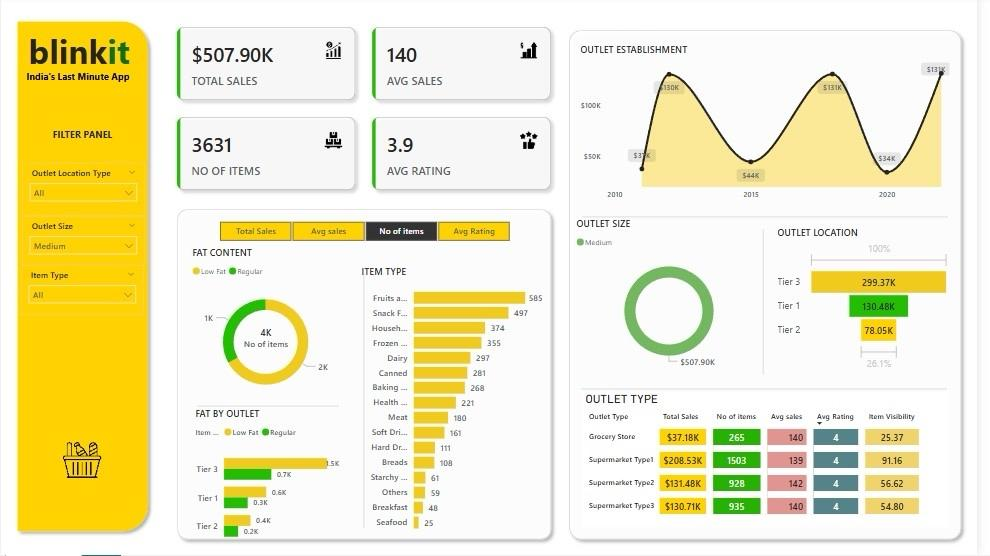

What the dashboard file says about the page in this screenshot:
{"tool":"powerbi","page":{"name":"Page 1","canvas":[1400,800],"ordinal":0},"visuals":[{"type":"shape","box":[14.7,25.7,205.8,749.6],"z":0},{"type":"textbox","box":[31.2,101,170.9,34.9],"z":1000},{"type":"textbox","box":[34.9,38.6,165.4,80.8],"z":2000},{"type":"cardVisual","fields":{"Data":["BlinkIT Grocery Data.Total Sales","BlinkIT Grocery Data.Avg sales","BlinkIT Grocery Data.No of items","BlinkIT Grocery Data.Avg Rating"]},"box":[234.6,25.9,570.7,269.7],"z":3000},{"type":"shape","box":[243.8,295.5,554.1,491.3],"z":4000},{"type":"slicer","fields":{"Values":["Metrics.Metrics"]},"box":[288.1,315.8,465.4,40.6],"z":5000},{"type":"donutChart","title":"FAT CONTENT","fields":{"Y":["BlinkIT Grocery Data.Total Sales"],"Category":["BlinkIT Grocery Data.Item Fat Content"]},"box":[269.7,356.5,219.8,230.9],"z":6000},{"type":"cardVisual","fields":{"Data":["BlinkIT Grocery Data.Total Sales"]},"box":[314,435.9,133,105.3],"z":7000},{"type":"clusteredBarChart","title":"FAT BY OUTLET","fields":{"Y":["BlinkIT Grocery Data.Total Sales"],"Series":["BlinkIT Grocery Data.Item Fat Content"],"Category":["BlinkIT Grocery Data.Outlet Location Type"]},"box":[273.4,587.3,216.1,208.7],"z":8000},{"type":"shape","box":[280.7,567,203.2,40.6],"z":9000},{"type":"shape","box":[419.3,395.3,203.2,365.7],"z":10000},{"type":"barChart","title":"ITEM TYPE","fields":{"Y":["BlinkIT Grocery Data.Total Sales"],"Category":["BlinkIT Grocery Data.Item Type"]},"box":[511.6,384.2,269.7,391.6],"z":11000},{"type":"shape","box":[805.3,38.8,579.9,748],"z":12000},{"type":"lineChart","title":"OUTLET ESTABLISHMENT","fields":{"Category":["BlinkIT Grocery Data.Outlet Establishment Year"],"Y":["BlinkIT Grocery Data.Total Sales"]},"box":[825.6,66.5,539.3,234.6],"z":13000},{"type":"shape","box":[833,280.7,524.5,68.3],"z":14000},{"type":"donutChart","title":"OUTLET SIZE","fields":{"Y":["BlinkIT Grocery Data.Total Sales"],"Category":["BlinkIT Grocery Data.Outlet Size"]},"box":[820.1,315.8,275.2,225.3],"z":15000},{"type":"shape","box":[1078.6,332.5,29.6,208.7],"z":16000},{"type":"funnel","title":"OUTLET LOCATION","fields":{"Category":["BlinkIT Grocery Data.Outlet Location Type"],"Y":["Sum(BlinkIT Grocery Data.Sales)"]},"box":[1108.2,328.8,256.7,212.4],"z":17000},{"type":"shape","box":[831.1,546.7,524.5,31.4],"z":18000},{"type":"pivotTable","title":"OUTLET TYPE","fields":{"Rows":["BlinkIT Grocery Data.Outlet Type"],"Values":["BlinkIT Grocery Data.Total Sales","BlinkIT Grocery Data.No of items","BlinkIT Grocery Data.Avg sales","BlinkIT Grocery Data.Avg Rating","Sum(BlinkIT Grocery Data.Item Visibility)"]},"box":[833,567,524.5,193.9],"z":19000},{"type":"slicer","fields":{"Values":["BlinkIT Grocery Data.Outlet Size"]},"box":[29.9,313.4,176.4,70.9],"z":20000},{"type":"slicer","fields":{"Values":["BlinkIT Grocery Data.Item Type"]},"box":[28.3,384.3,176.4,72.4],"z":21000},{"type":"slicer","fields":{"Values":["BlinkIT Grocery Data.Outlet Location Type"]},"box":[29.9,237.8,176.4,75.6],"z":22000},{"type":"textbox","box":[60.2,183.5,113.3,34.4],"z":23000},{"type":"image","box":[70.9,623.6,92.9,80.3],"z":24000}]}

Visuals, with their boxes in screenshot pixels (x1, y1, x2, y2), scaled from the page's 1400x800 canvas onto the 990x556 screenshot:
shape: select_region(10, 18, 156, 539)
textbox: select_region(22, 70, 143, 94)
textbox: select_region(25, 27, 142, 83)
cardVisual - BlinkIT Grocery Data.Total Sales x BlinkIT Grocery Data.Avg sales: select_region(166, 18, 569, 205)
shape: select_region(172, 205, 564, 547)
slicer - Metrics.Metrics: select_region(204, 219, 533, 248)
"FAT CONTENT" donutChart: select_region(191, 248, 346, 408)
cardVisual - BlinkIT Grocery Data.Total Sales: select_region(222, 303, 316, 376)
"FAT BY OUTLET" clusteredBarChart: select_region(193, 408, 346, 553)
shape: select_region(198, 394, 342, 422)
shape: select_region(297, 275, 440, 529)
"ITEM TYPE" barChart: select_region(362, 267, 552, 539)
shape: select_region(569, 27, 980, 547)
"OUTLET ESTABLISHMENT" lineChart: select_region(584, 46, 965, 209)
shape: select_region(589, 195, 960, 243)
"OUTLET SIZE" donutChart: select_region(580, 219, 775, 376)
shape: select_region(763, 231, 784, 376)
"OUTLET LOCATION" funnel: select_region(784, 229, 965, 376)
shape: select_region(588, 380, 959, 402)
"OUTLET TYPE" pivotTable: select_region(589, 394, 960, 529)
slicer - BlinkIT Grocery Data.Outlet Size: select_region(21, 218, 146, 267)
slicer - BlinkIT Grocery Data.Item Type: select_region(20, 267, 145, 317)
slicer - BlinkIT Grocery Data.Outlet Location Type: select_region(21, 165, 146, 218)
textbox: select_region(43, 128, 123, 151)
image: select_region(50, 433, 116, 489)
